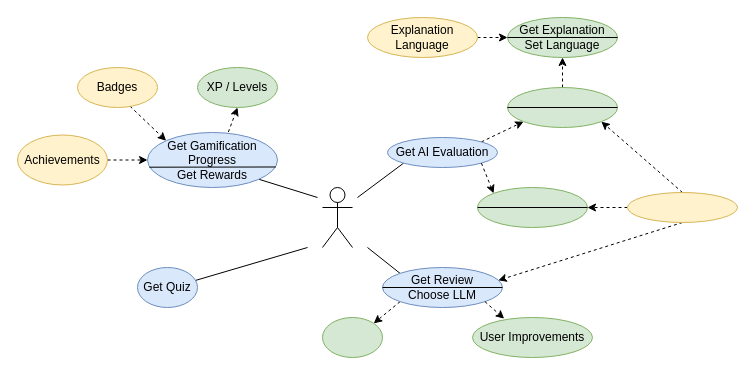
The diagram is 755 pixels wide and 375 high, and some of its shapes have lost their labels. Here are the shapes that lost their labels. From the top down, the centre of each, then its label:
[562,107]: Get Correction Choose LLM
[337,217]: User
[532,207]: Get Scores Choose LLM
[682,207]: Choose LLM
[352,337]: Tips
